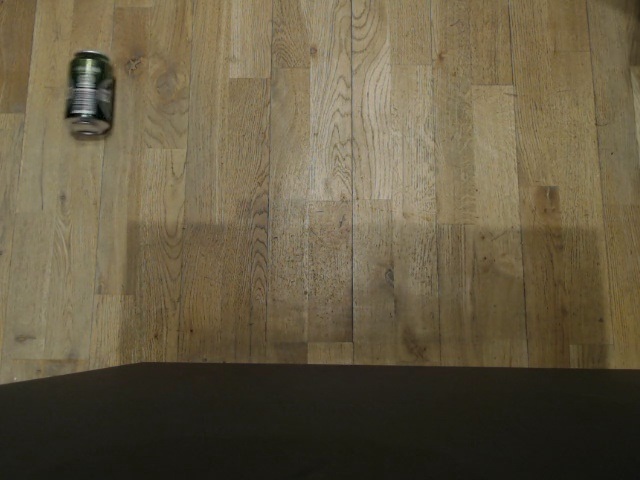beer: (59, 48, 119, 141)
